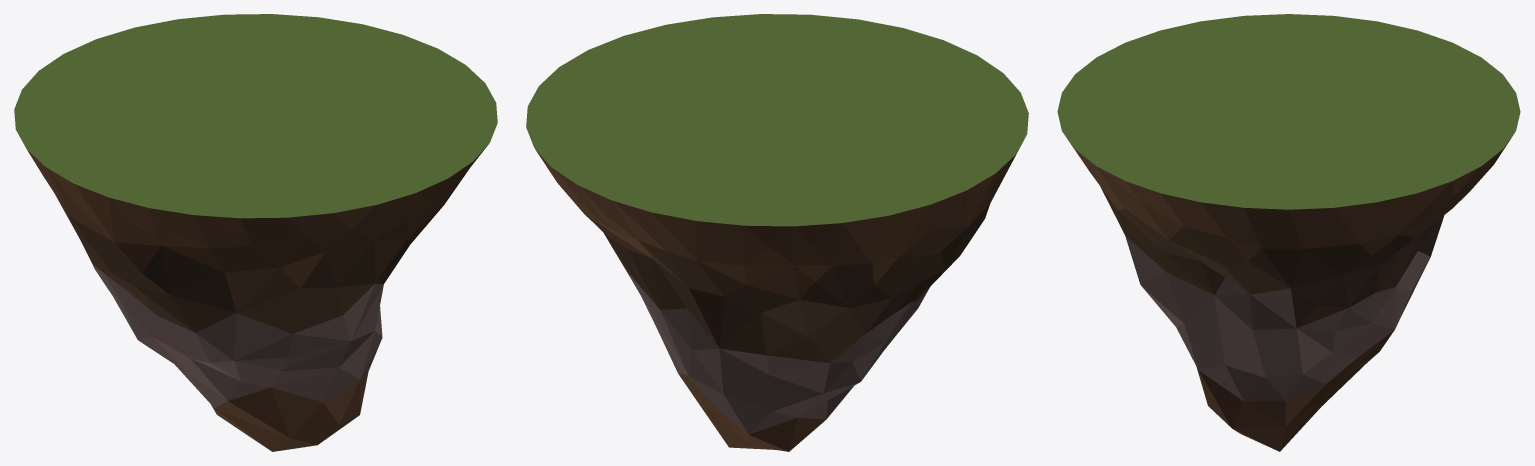
File: floating_mountain.glb
3 renders of one model, left to right at view 1: azimuth 30°, elevation 25°; view 2: azimuth 150°, elevation 25°; view 3: azimuth 270°, elevation 25°, orthographic. The views are drawn at different scales.
Parts seen in each view (by area): view 1: Cone; view 2: Cone; view 3: Cone.
Boxes of the visible parts, x1,y1,x2,y2 form: Cone: (14, 14, 497, 451); Cone: (526, 14, 1028, 451); Cone: (1057, 14, 1520, 451).
Size of the model in its own units: 2 by 1.51 by 2.
